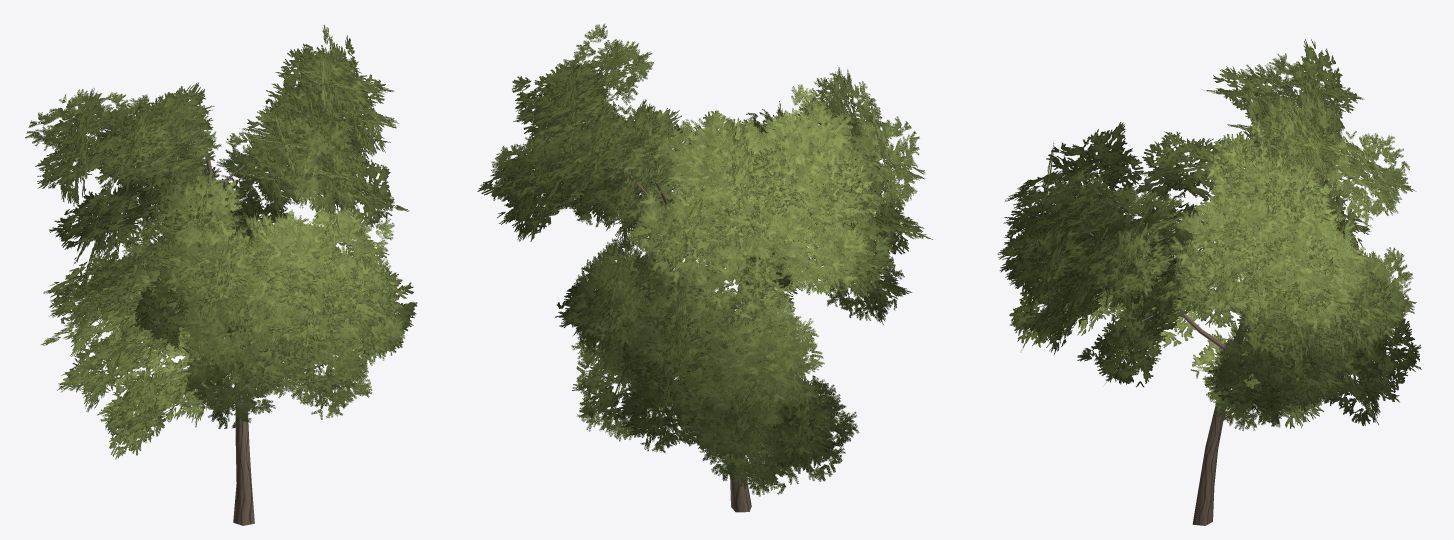
Rendered from sapling-b.lod0.glb.
3 renders of one model, left to right at view 1: azimuth 30°, elevation 25°; view 2: azimuth 150°, elevation 25°; view 3: azimuth 270°, elevation 25°, orthographic. The views are drawn at different scales.
Parts seen in each view (by area): view 1: foliage, bark; view 2: foliage, bark; view 3: foliage, bark.
Boxes of the visible parts, x1=… form: foliage: x1=25, y1=24, x2=417, y2=459; bark: x1=125, y1=100, x2=321, y2=525; foliage: x1=477, y1=23, x2=932, y2=496; bark: x1=595, y1=133, x2=765, y2=512; foliage: x1=997, y1=39, x2=1421, y2=430; bark: x1=1086, y1=179, x2=1327, y2=525.
Bounding box in the file's own units: 1.1 × 1.3 × 1.17.
3 materials, 2 textured.
